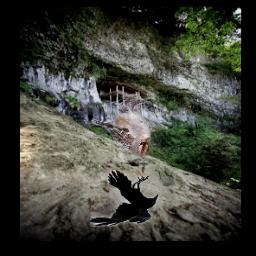Crow: (90, 170, 159, 227)
Sparrow: (91, 94, 152, 156)
